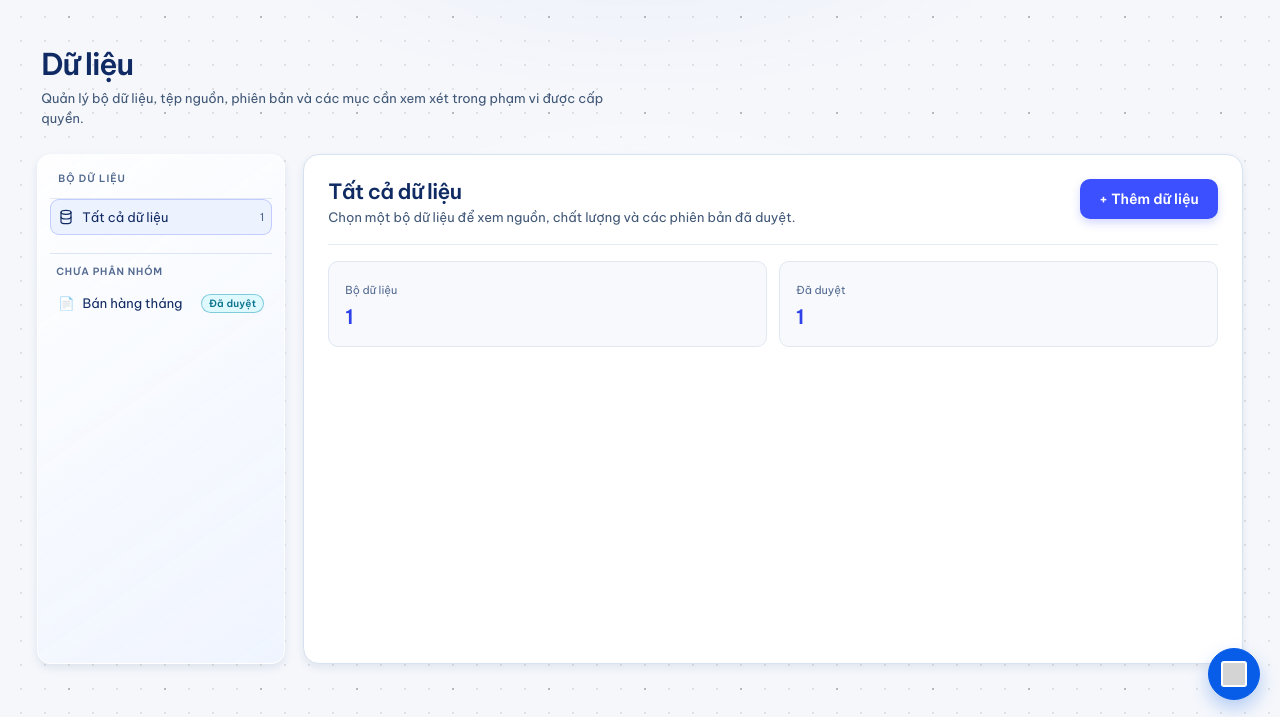
Scenario: [WEB-020][WEB-021][WEB-024] data route loading states › renders bounded approved server samples in the dataset detail table
The image size is (1280, 717).
Step 1. Click the button "📄 Bán hàng tháng Đã duyệt" → (161, 303), box [50,285,272,321]
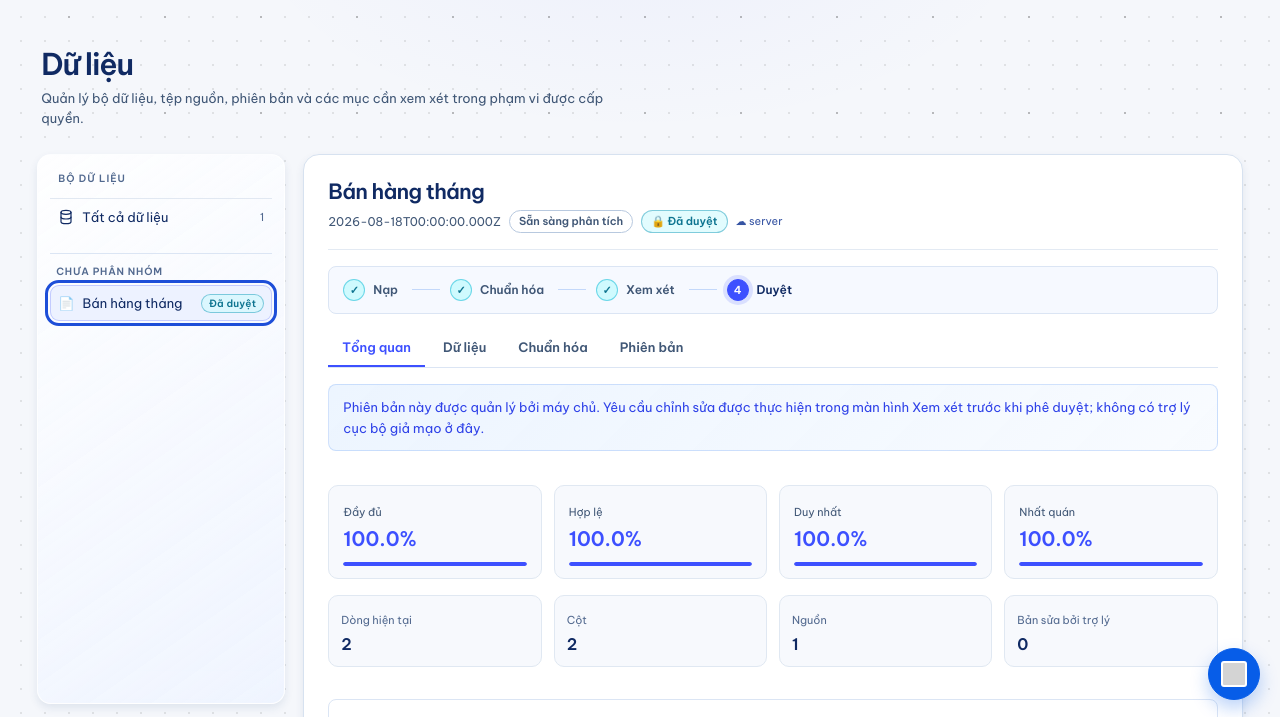
Step 2. Click the button "Dữ liệu" → (465, 349), box [429,330,500,368]
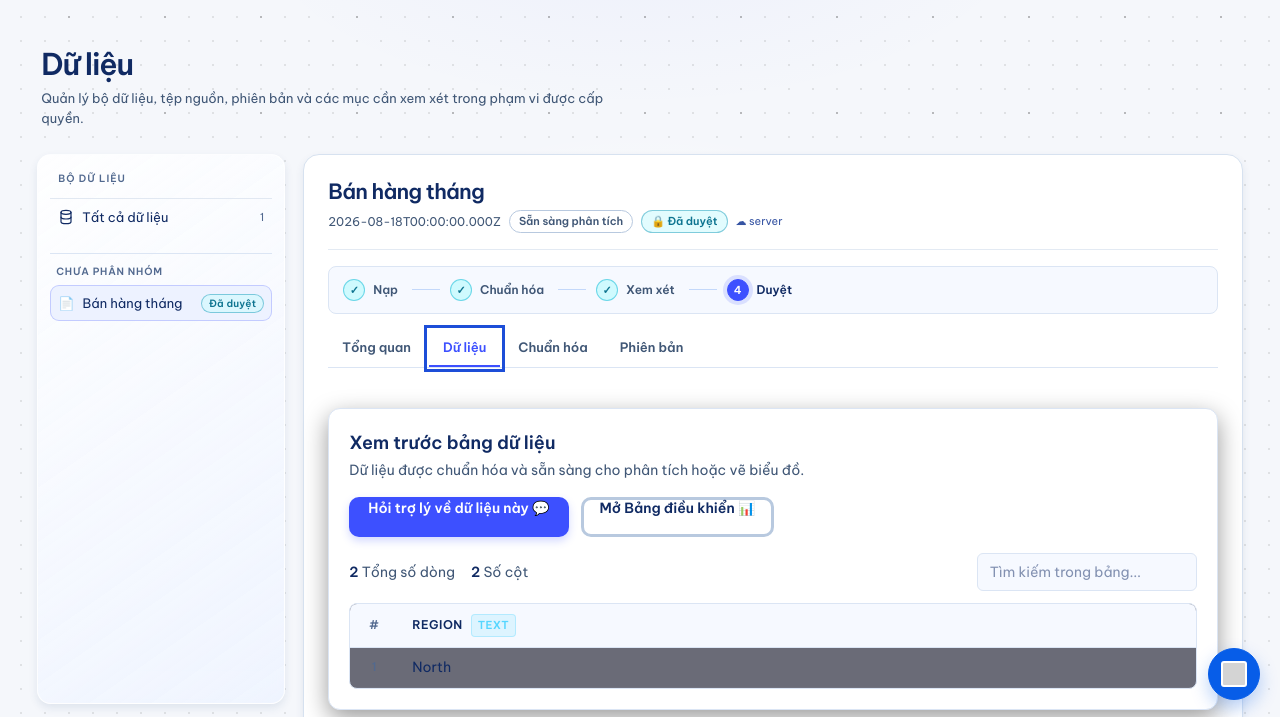
Expected: the element "Xem trước bảng dữ liệu" is shown, [328,408,1218,710]
Expected: the text "North" is shown, [398,648,1196,687]
Expected: the text "2" is shown 2 times, [349,563,359,581]; [471,563,480,581]
